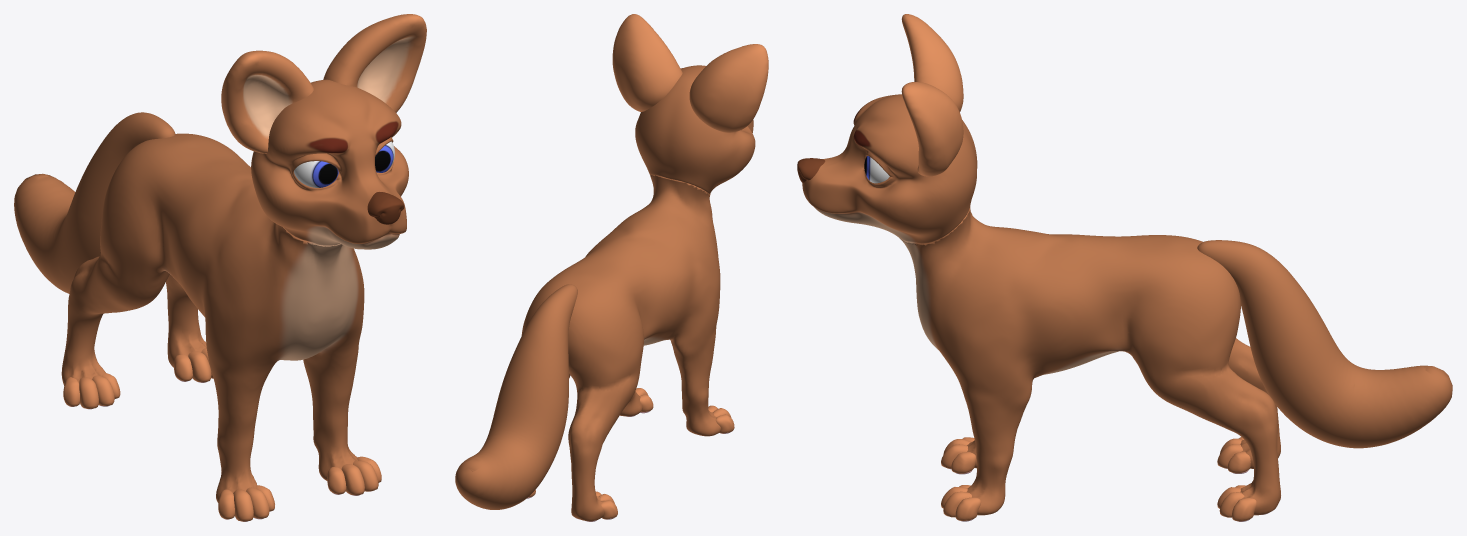
The model's file is mascot-placeholder.glb.
3 views of the same model, side by side, from view 1: azimuth 30°, elevation 25°; view 2: azimuth 150°, elevation 25°; view 3: azimuth 270°, elevation 25° (orthographic). The views are drawn at different scales.
Visible parts, largest first — view 1: Sphere.029, Sphere.031, Sphere.030, Sphere.028, Sphere.002, Sphere.003, Sphere.022, Sphere.027; view 2: Sphere.029, Sphere.028, Sphere.030, Sphere.031, Sphere.002, Sphere.003; view 3: Sphere.029, Sphere.028, Sphere.031, Sphere.030, Sphere.002, Sphere.003.
Boxes of the visible parts, box(x1,y1,x2,y2) form: Sphere.029: box(61, 133, 364, 502); Sphere.031: box(251, 79, 408, 249); Sphere.030: box(221, 14, 426, 153); Sphere.028: box(14, 112, 175, 293); Sphere.002: box(218, 456, 381, 521); Sphere.003: box(63, 348, 213, 409); Sphere.022: box(294, 141, 394, 187); Sphere.027: box(367, 192, 404, 224); Sphere.029: box(521, 175, 721, 521); Sphere.028: box(455, 284, 577, 509); Sphere.030: box(612, 14, 768, 132); Sphere.031: box(635, 65, 755, 193); Sphere.002: box(626, 388, 734, 433); Sphere.003: box(527, 490, 617, 521); Sphere.029: box(899, 207, 1280, 515); Sphere.028: box(1197, 240, 1452, 448); Sphere.031: box(802, 94, 977, 243); Sphere.030: box(901, 14, 963, 176); Sphere.002: box(941, 437, 980, 521); Sphere.003: box(1217, 437, 1268, 521).
Size of the model in its own units: 0.3145 by 0.7412 by 1.
